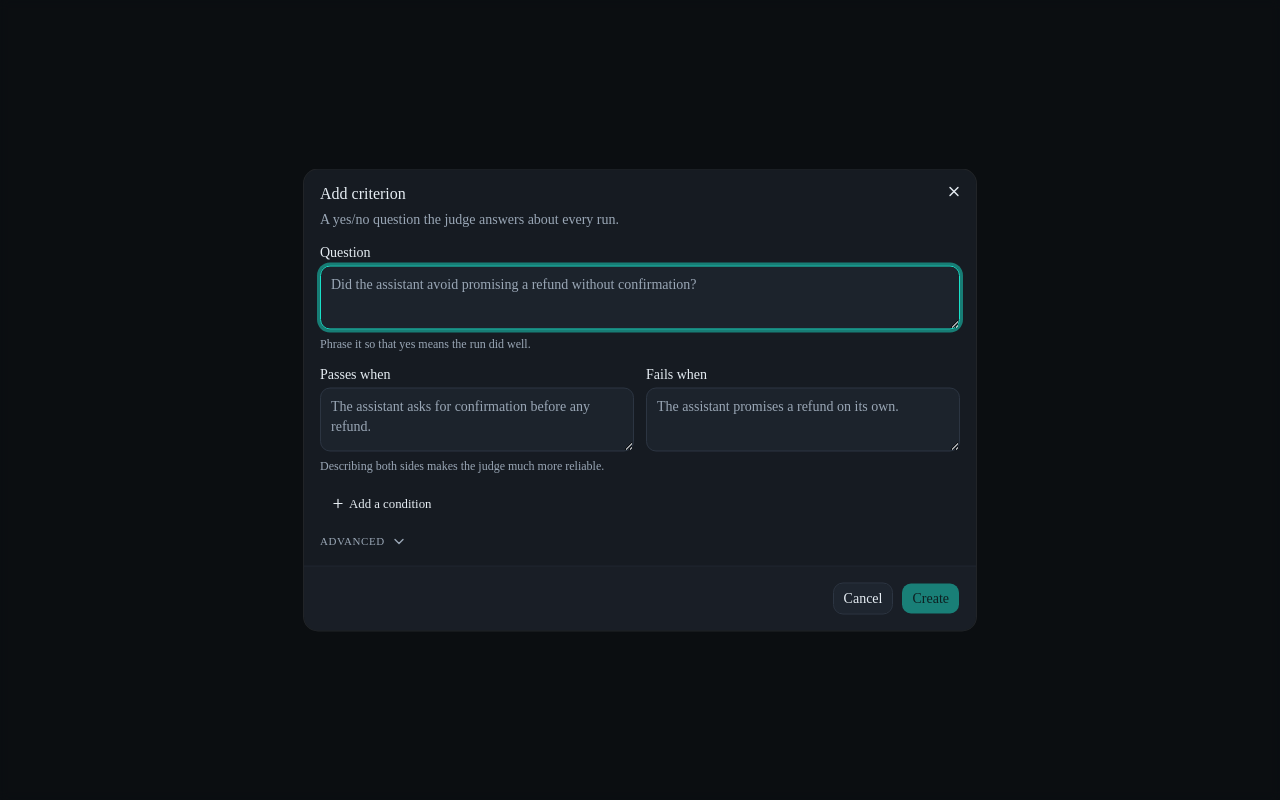
it: CriterionDialog › shows the API error inline and stays open
Type "Q?" into the text box labelled "Question" at [640, 298], box 320,266 -> 960,330
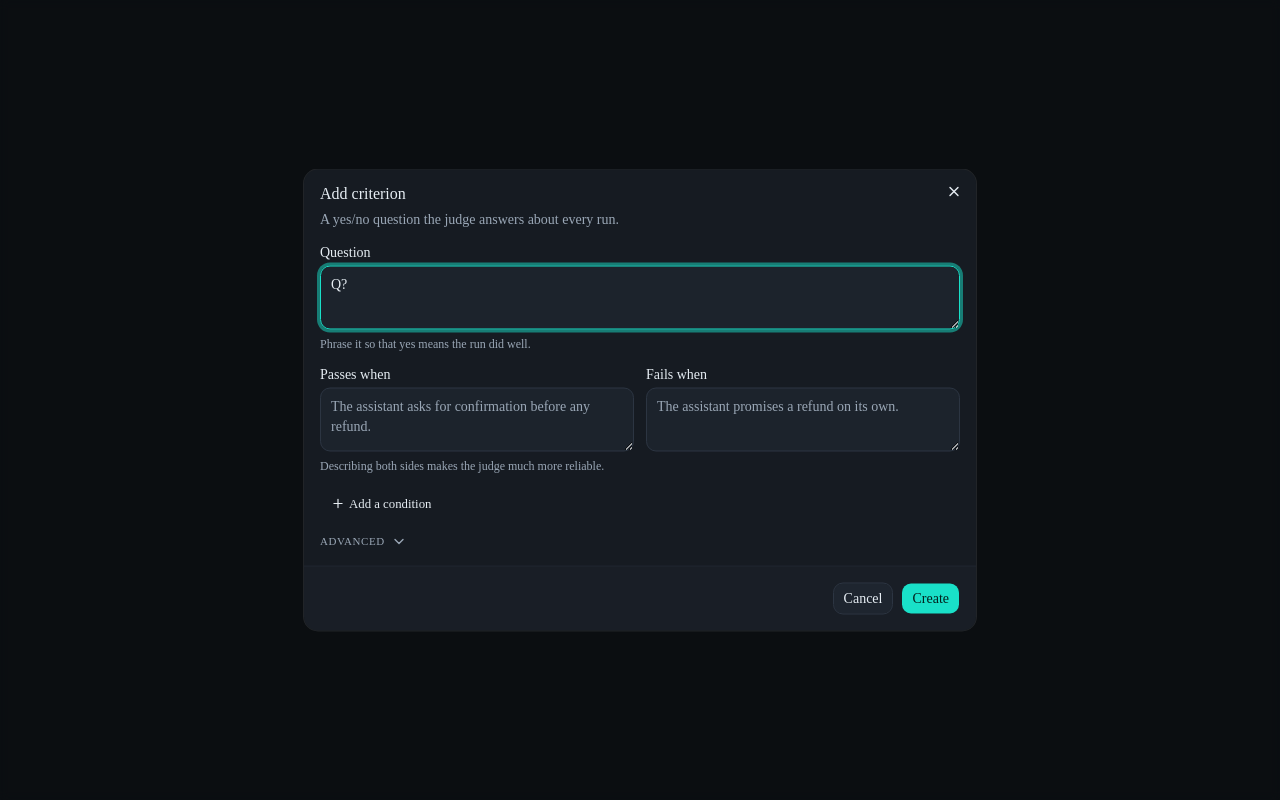
Click the button "Create" at [931, 598], box 902,582 -> 960,614
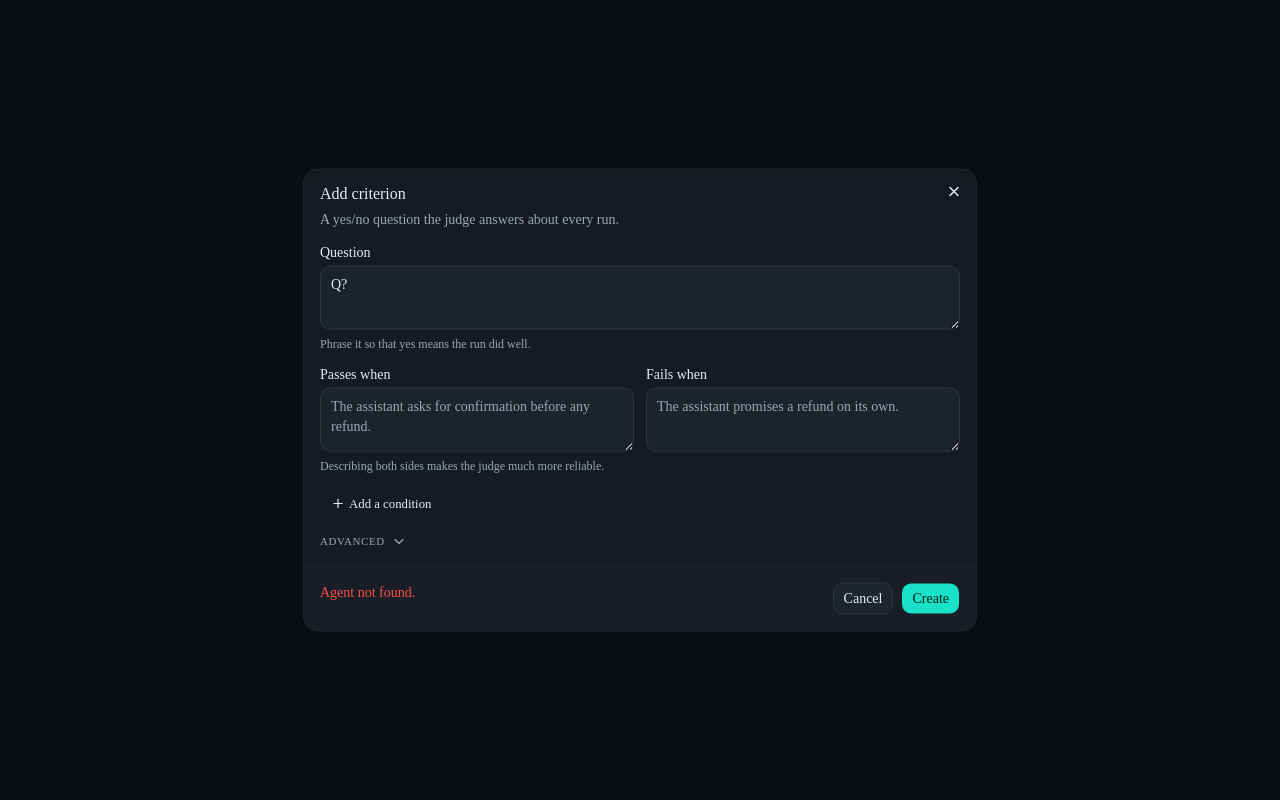
Now the text "Agent not found." is shown, box 320,584 -> 415,600
